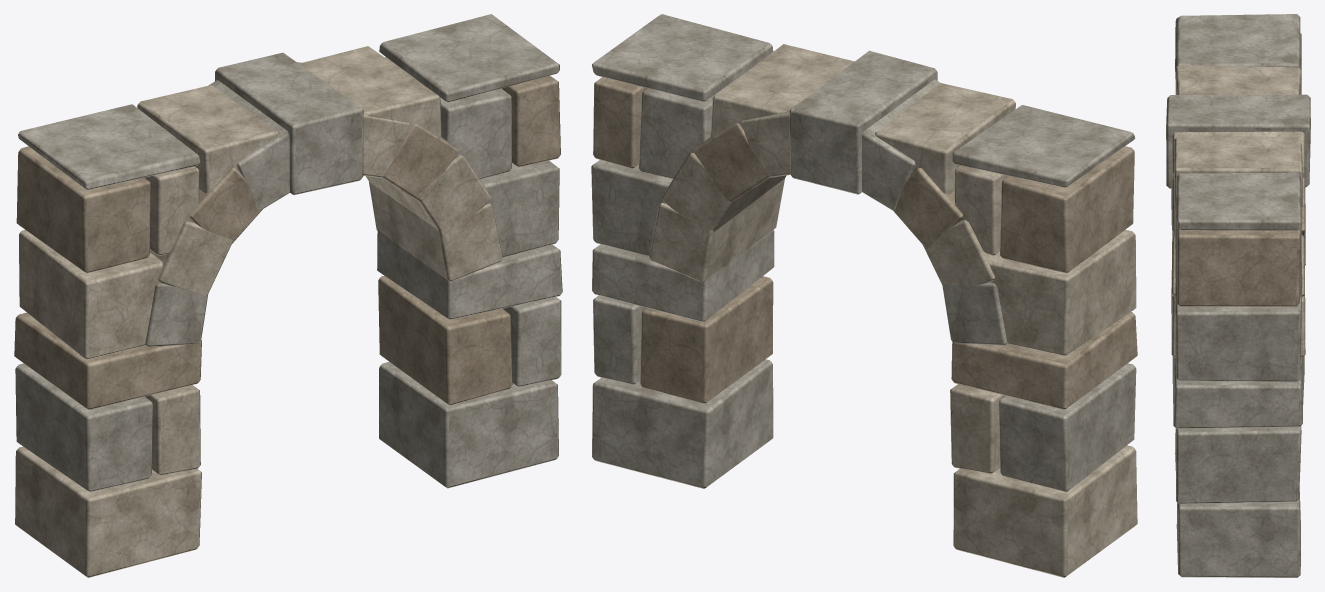
Rendered from Arch_1_5m.glb.
3 renders of one model, left to right at view 1: azimuth 30°, elevation 25°; view 2: azimuth 150°, elevation 25°; view 3: azimuth 270°, elevation 25°, orthographic. The views are drawn at different scales.
Parts seen in each view (by area): view 1: Arch_1_5m; view 2: Arch_1_5m; view 3: Arch_1_5m.
Part boxes in pixels (x1,y1,x2,y2): Arch_1_5m: [14, 14, 562, 577]; Arch_1_5m: [591, 14, 1137, 577]; Arch_1_5m: [1166, 14, 1310, 577].
Size of the model in its own units: 2.99 by 2.44 by 0.8704.
Materials: 3 (3 with a texture image).
